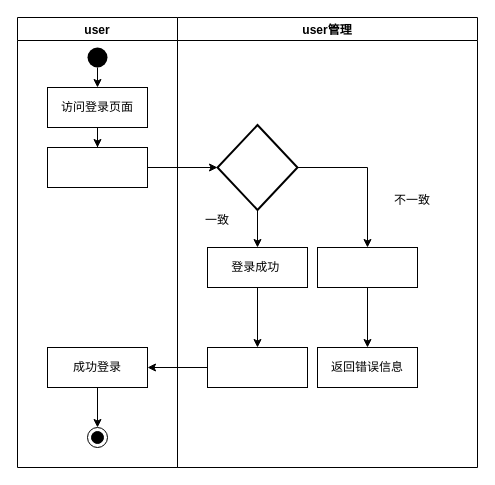
Image size: 495x485. Some labels were removed from this diagram. The shapes that lost their labels are listed below. From the top down, each one's centre as x and y in pixels, then its label:
At [97,167]: "输入用户信息".
At [257,167]: "判断用户输入信息".
At [367,267]: "登录失败".
At [257,367]: "返回登录成功页面".
